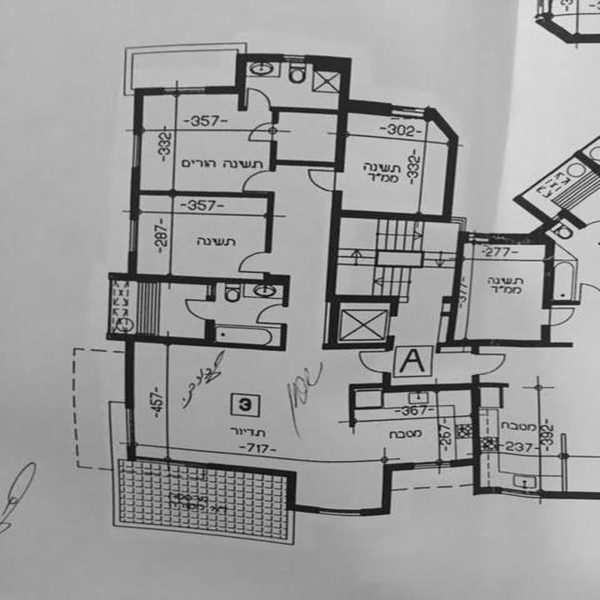door: (234, 244, 272, 277), (359, 350, 404, 377), (300, 166, 347, 191), (469, 351, 507, 378), (181, 296, 218, 320), (545, 299, 574, 328), (243, 83, 274, 108), (249, 118, 276, 144), (244, 163, 270, 190), (259, 305, 287, 325)
room: (119, 324, 300, 483), (323, 205, 467, 346), (130, 77, 277, 197), (329, 97, 463, 217), (127, 188, 280, 290), (451, 224, 554, 349), (351, 381, 482, 473)
wall: (103, 333, 288, 354), (171, 460, 296, 484), (441, 331, 561, 355), (128, 187, 276, 203), (331, 207, 453, 226), (104, 273, 266, 286), (468, 377, 486, 492), (447, 229, 462, 357), (333, 56, 349, 172), (443, 129, 460, 222), (537, 238, 558, 308), (486, 231, 557, 251), (268, 104, 347, 121), (382, 383, 479, 396), (344, 99, 399, 119), (534, 488, 599, 504), (327, 214, 339, 298), (126, 334, 139, 408), (272, 158, 339, 172), (325, 342, 397, 354), (335, 294, 400, 307), (234, 50, 247, 109), (265, 191, 277, 254), (238, 47, 282, 64), (133, 90, 147, 136), (379, 461, 417, 477), (285, 502, 320, 519), (383, 458, 393, 515), (277, 271, 293, 303), (204, 83, 236, 97)
window: (317, 503, 364, 522), (122, 402, 138, 448), (164, 81, 203, 98), (497, 482, 536, 499), (393, 98, 425, 118), (413, 458, 451, 474), (130, 136, 146, 172), (127, 214, 141, 254), (284, 53, 307, 67)
